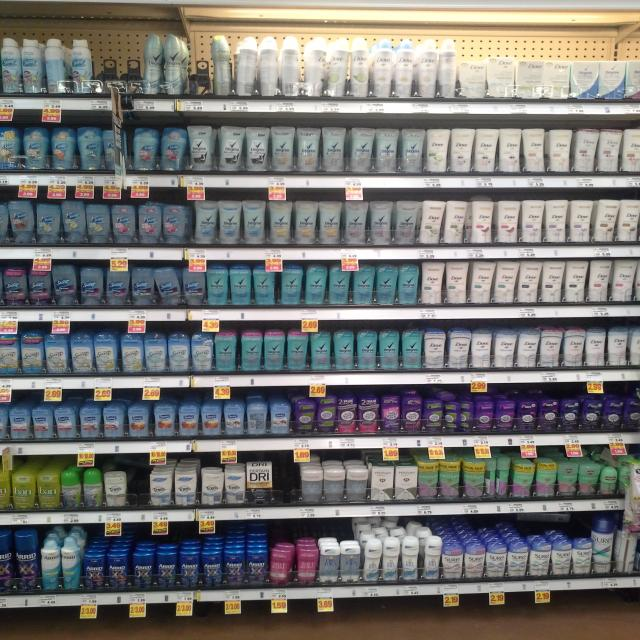empty: (91, 32, 148, 107), (182, 27, 219, 103), (269, 450, 300, 507), (123, 457, 149, 505)
